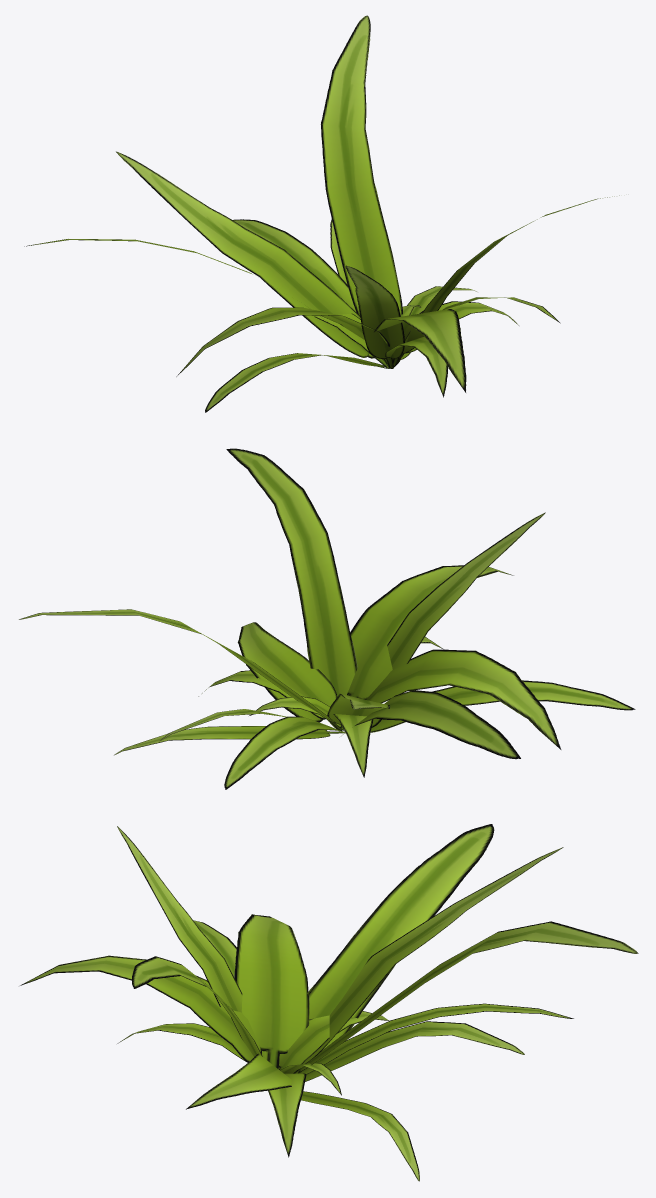
Rendered from Moonset_FBX_foliage_grand_03.fbx.
The picture shows the model from 3 angles, top to bottom: view 1: azimuth 30°, elevation 25°; view 2: azimuth 150°, elevation 25°; view 3: azimuth 270°, elevation 25°; orthographic projection. The views are drawn at different scales.
Parts seen in each view (by area): view 1: Foliage_grand_03; view 2: Foliage_grand_03; view 3: Foliage_grand_03.
Boxes of the visible parts, left/top/right/bottom form: Foliage_grand_03: left=24, top=15, right=619, bottom=412; Foliage_grand_03: left=19, top=448, right=635, bottom=789; Foliage_grand_03: left=20, top=824, right=638, bottom=1181.
Bounding box in the file's own units: 4.5 × 1.97 × 4.93.
